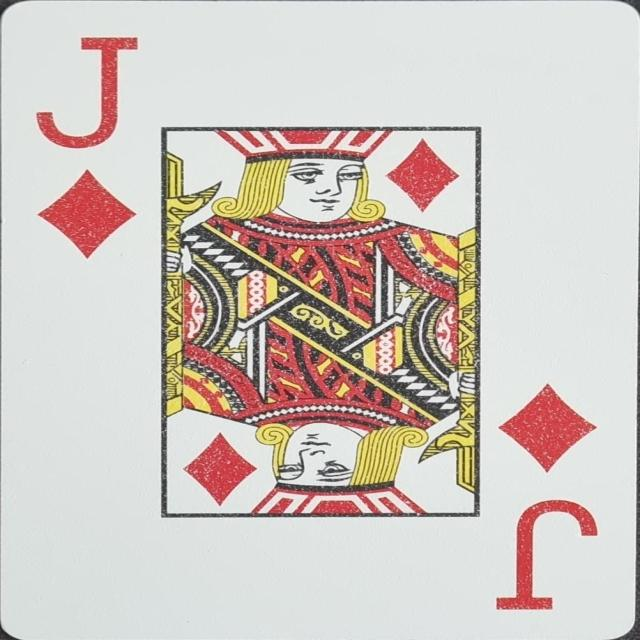Jd: (29, 35, 144, 260), (492, 380, 600, 611)
